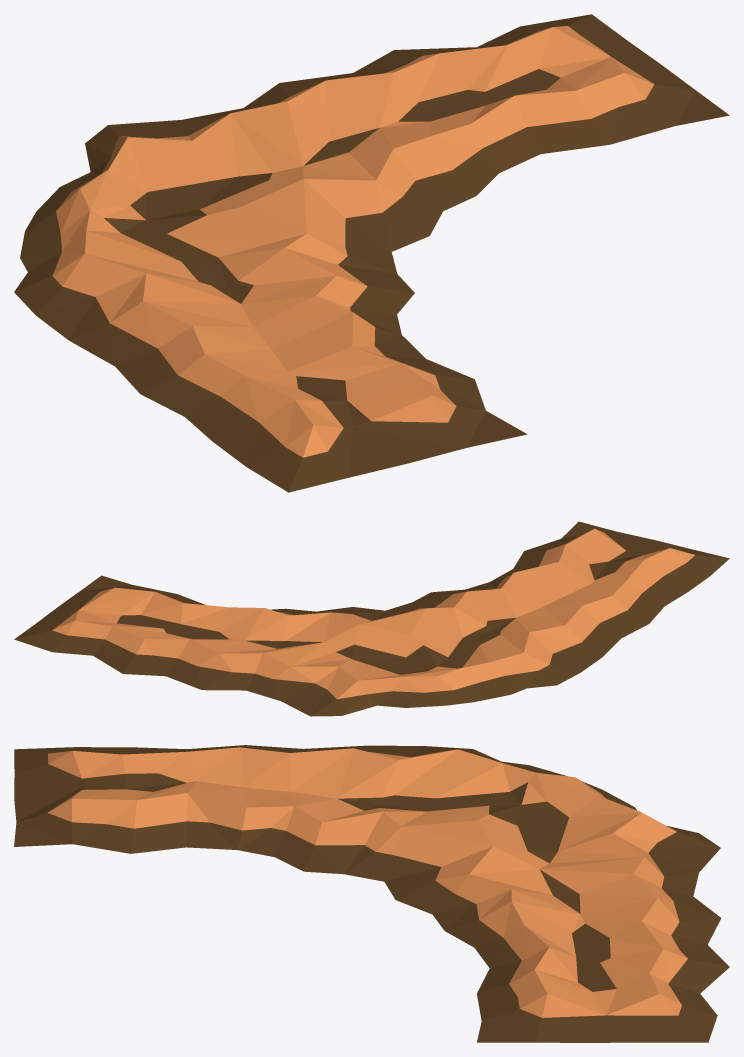
Rendered from Road_Mud_2.fbx.
3 views of the same model, one above another, from view 1: azimuth 30°, elevation 25°; view 2: azimuth 150°, elevation 25°; view 3: azimuth 270°, elevation 25° (orthographic). The views are drawn at different scales.
Parts seen in each view (by area): view 1: Road_Mud_2; view 2: Road_Mud_2; view 3: Road_Mud_2.
Boxes of the visible parts, left/top/right/bottom form: Road_Mud_2: left=14, top=14, right=729, bottom=492; Road_Mud_2: left=14, top=521, right=729, bottom=716; Road_Mud_2: left=14, top=745, right=729, bottom=1042.
Size of the model in its own units: 16.61 by 0.6968 by 16.87.
